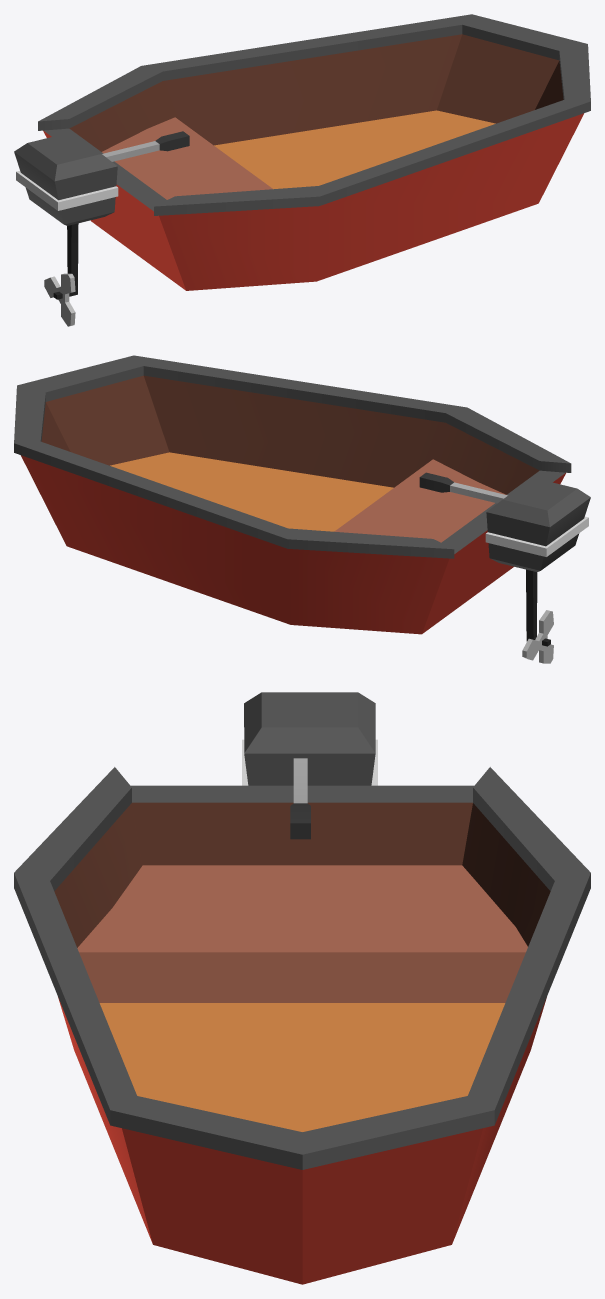
Rendered from SpeedBoat.fbx.
3 views of the same model, one above another, from view 1: azimuth 30°, elevation 25°; view 2: azimuth 150°, elevation 25°; view 3: azimuth 270°, elevation 25° (orthographic). The views are drawn at different scales.
Parts seen in each view (by area): view 1: SpeedBoat; view 2: SpeedBoat; view 3: SpeedBoat.
Part boxes in pixels (bbox=[...]): SpeedBoat: bbox=[14, 14, 590, 326]; SpeedBoat: bbox=[14, 355, 590, 663]; SpeedBoat: bbox=[14, 692, 590, 1284].
Size of the model in its own units: 664 by 198 by 373.
